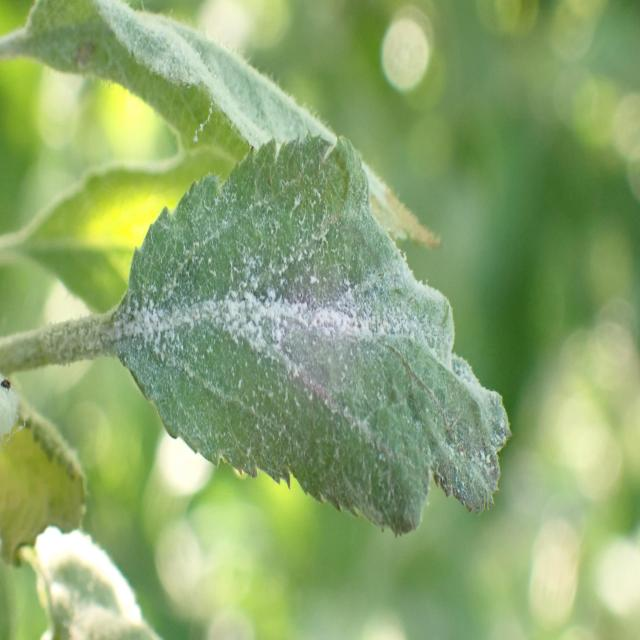Powdery_mildew: (95, 126, 518, 550), (13, 0, 445, 256), (0, 491, 227, 640)
